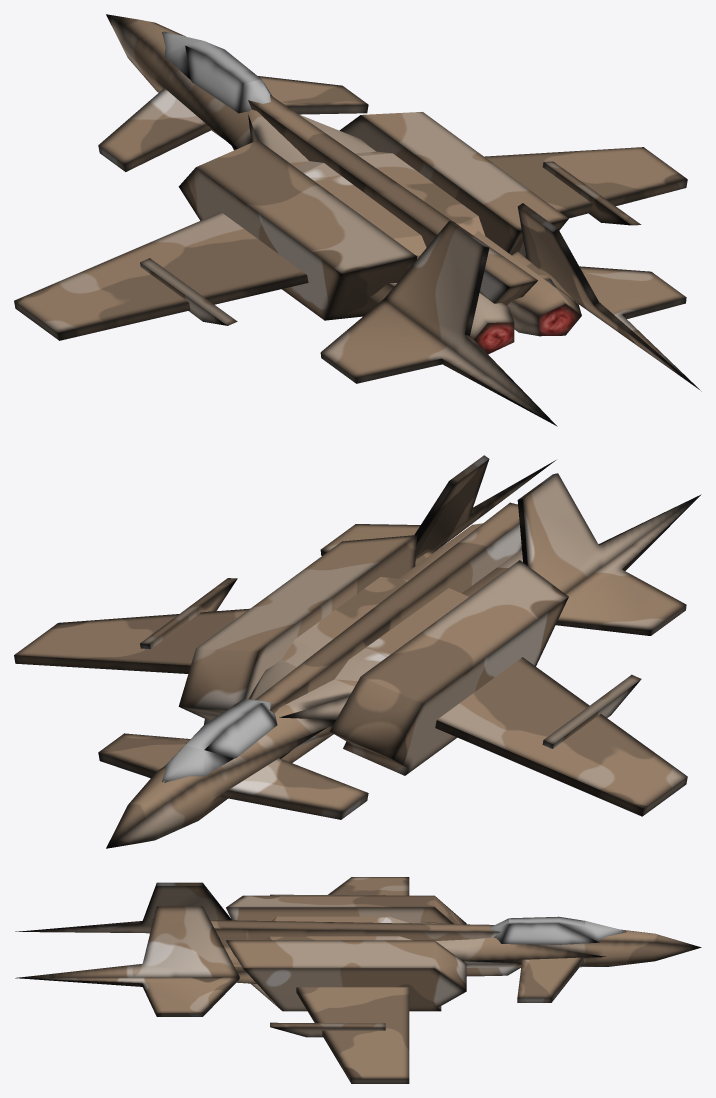
The model's file is F35eger.fbx.
The picture shows the model from 3 angles, top to bottom: view 1: azimuth 30°, elevation 25°; view 2: azimuth 150°, elevation 25°; view 3: azimuth 270°, elevation 25°; orthographic projection. The views are drawn at different scales.
Parts seen in each view (by area): view 1: Flieger__Rumpf_; view 2: Flieger__Rumpf_; view 3: Flieger__Rumpf_.
Boxes of the visible parts, left/top/right/bottom form: Flieger__Rumpf_: left=14, top=14, right=701, bottom=426; Flieger__Rumpf_: left=14, top=455, right=701, bottom=848; Flieger__Rumpf_: left=15, top=877, right=701, bottom=1083.
Size of the model in its own units: 15.34 by 3.15 by 22.12.
1 material, 1 textured.
